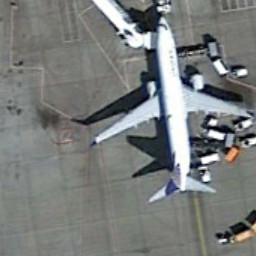Airplane: (87, 12, 253, 209)
